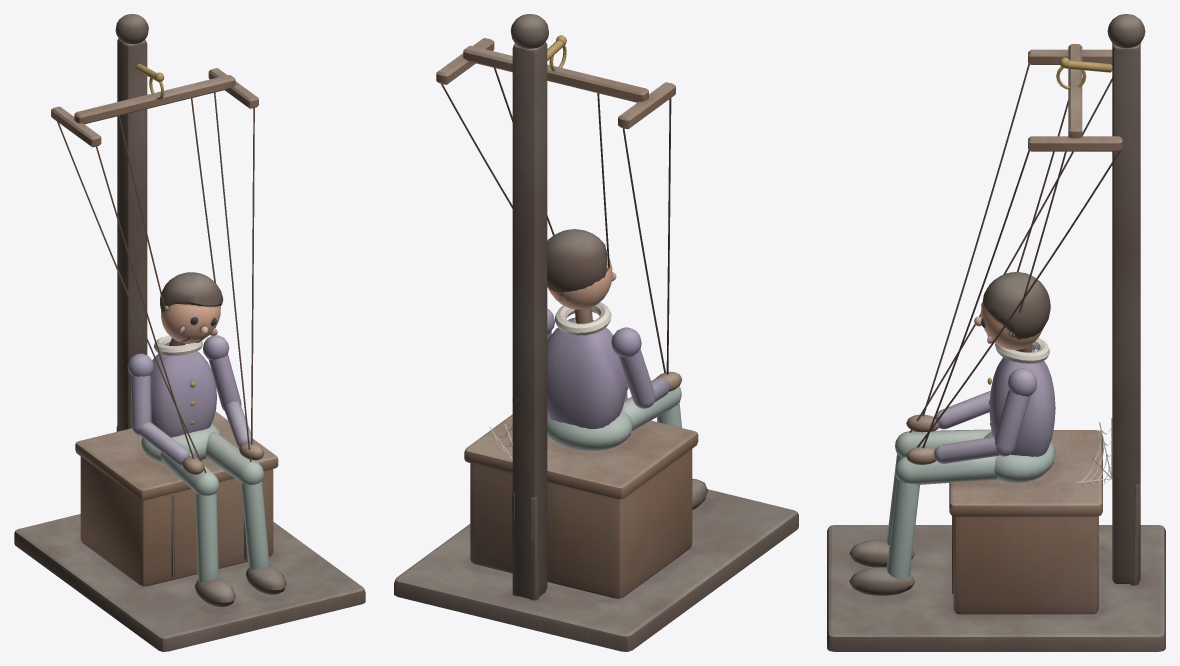
Rendered from creepy-puppet.glb.
3 renders of one model, left to right at view 1: azimuth 30°, elevation 25°; view 2: azimuth 150°, elevation 25°; view 3: azimuth 270°, elevation 25°, orthographic. The views are drawn at different scales.
Parts seen in each view (by area): view 1: creepy-puppet_body; view 2: creepy-puppet_body; view 3: creepy-puppet_body, creepy-puppet_web.
Part boxes in pixels (box(x1,y1,x2,y2)): creepy-puppet_body: box(14, 14, 365, 651); creepy-puppet_body: box(394, 14, 798, 651); creepy-puppet_body: box(827, 14, 1165, 651); creepy-puppet_web: box(1075, 418, 1112, 492).
Bounding box in the file's own units: 0.34 × 0.812 × 0.43.
2 materials, 1 textured.
